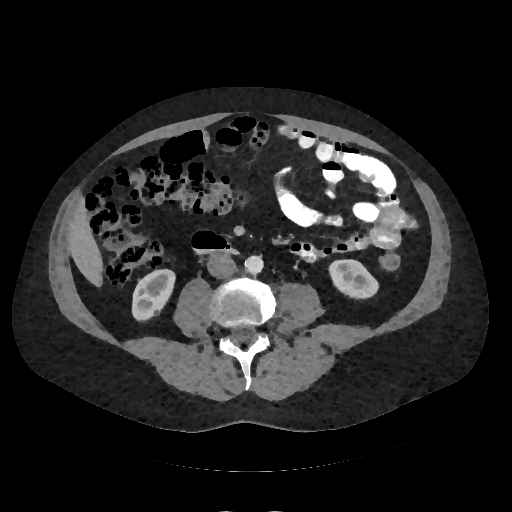Lesion: (152, 306, 163, 318)
